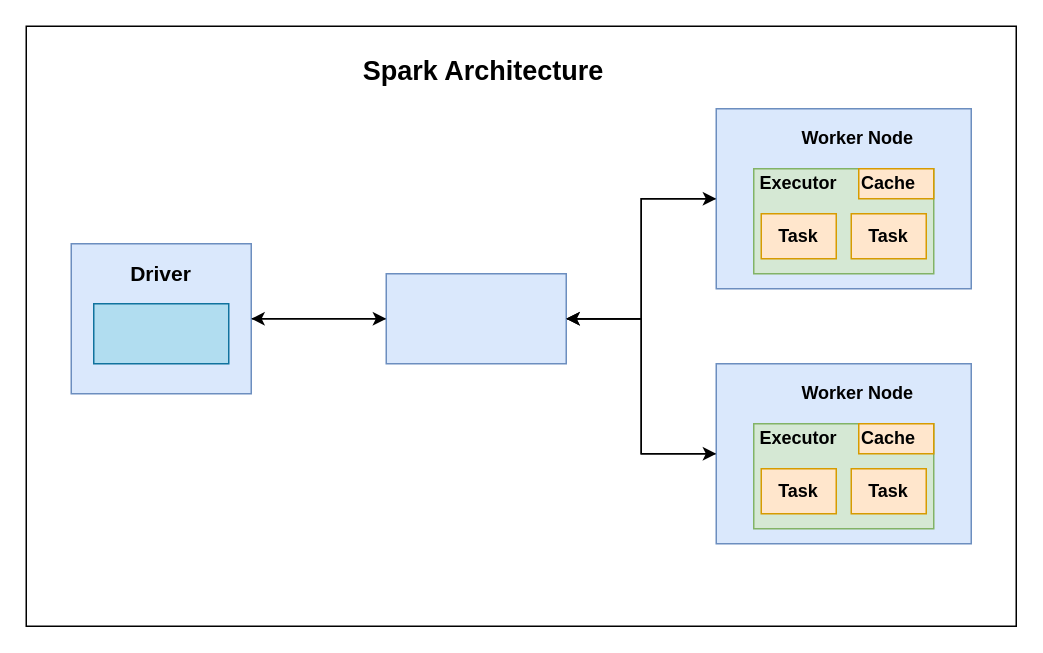
Some shapes in this 1043 by 653 pixel diagram are drawn without their labels. The shapes that lost their labels are listed below. From the top down, each one's centre as x and y in pixels, then its label:
At point (160, 333): "Spark Context".
At point (475, 318): "Cluster Manager".
